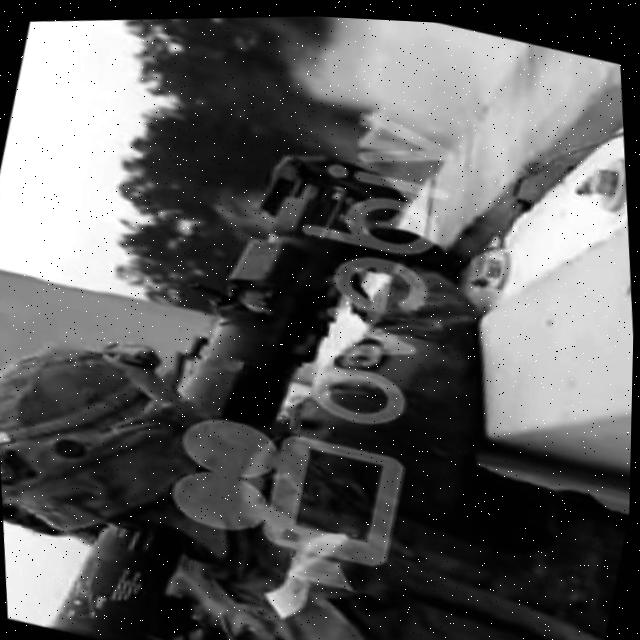rocket: (29, 98, 449, 640)
